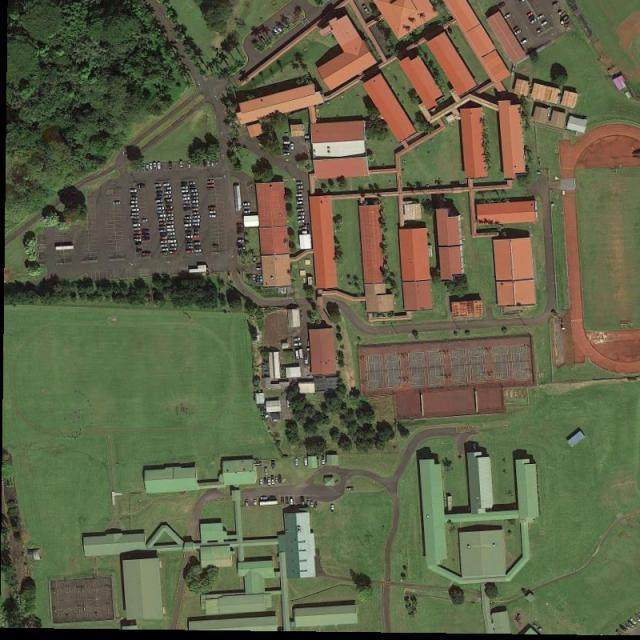vehicle: (560, 15, 570, 26), (362, 5, 370, 15), (528, 14, 537, 22), (276, 25, 284, 34), (619, 625, 628, 633), (530, 18, 538, 26), (630, 618, 638, 626), (537, 14, 546, 21), (520, 39, 529, 46), (498, 2, 507, 9), (273, 27, 280, 36), (628, 621, 635, 630), (512, 26, 520, 33), (304, 354, 309, 365), (295, 350, 300, 361), (301, 497, 306, 507), (299, 349, 304, 359), (526, 12, 534, 18), (541, 22, 549, 28), (536, 28, 544, 34), (514, 30, 522, 36), (504, 14, 512, 20), (271, 461, 276, 470), (164, 190, 173, 195), (272, 475, 276, 486), (299, 227, 310, 231), (625, 624, 631, 631), (552, 2, 560, 7), (473, 443, 477, 453), (635, 614, 640, 622), (133, 224, 141, 229), (156, 199, 164, 204), (238, 231, 246, 236), (194, 249, 202, 254), (278, 474, 282, 484), (304, 457, 308, 467), (322, 456, 326, 466), (294, 342, 302, 347), (292, 338, 302, 342), (168, 240, 178, 244), (215, 158, 220, 166), (206, 160, 211, 168), (558, 11, 564, 17), (314, 501, 318, 510), (131, 209, 140, 213), (132, 216, 141, 220), (157, 206, 166, 210), (209, 215, 218, 219), (237, 247, 246, 251), (243, 210, 252, 214), (243, 202, 252, 206), (207, 187, 216, 191), (207, 180, 216, 184), (193, 242, 202, 246), (254, 276, 263, 280), (295, 186, 304, 190), (295, 182, 304, 186), (150, 163, 154, 172), (158, 162, 162, 171), (146, 164, 150, 173), (183, 207, 192, 211), (157, 203, 164, 208), (298, 208, 305, 213), (187, 162, 192, 169), (300, 231, 311, 234), (290, 498, 294, 506), (246, 499, 250, 507), (138, 184, 146, 188), (130, 193, 138, 197), (130, 205, 138, 209), (142, 230, 150, 234), (142, 234, 150, 238), (134, 238, 142, 242), (133, 219, 141, 223), (113, 202, 121, 206), (283, 138, 291, 142), (237, 239, 245, 243), (244, 207, 252, 211), (209, 210, 217, 214), (305, 135, 313, 139), (209, 206, 217, 210), (290, 143, 294, 151), (191, 208, 199, 212), (265, 468, 269, 476), (295, 458, 299, 466), (331, 505, 335, 513), (192, 204, 200, 208), (158, 210, 166, 214), (186, 250, 194, 254), (162, 183, 170, 187), (166, 198, 174, 202), (166, 202, 174, 206), (166, 206, 174, 210), (166, 210, 174, 214), (166, 214, 174, 218), (166, 222, 174, 226), (161, 237, 169, 241), (158, 222, 166, 226), (158, 218, 166, 222), (186, 246, 194, 250), (186, 235, 194, 239), (180, 182, 188, 186), (181, 186, 189, 190), (181, 190, 189, 194), (183, 194, 191, 198), (183, 201, 191, 205), (184, 220, 192, 224), (253, 279, 263, 282), (310, 501, 314, 508), (286, 498, 290, 505), (254, 499, 258, 506), (260, 479, 264, 486), (264, 478, 268, 485), (156, 191, 163, 195), (155, 184, 162, 188), (283, 145, 290, 149), (194, 226, 201, 230), (283, 149, 290, 153), (298, 216, 305, 220), (297, 198, 304, 202), (296, 194, 303, 198), (166, 186, 173, 190), (161, 244, 168, 248), (159, 230, 166, 234), (192, 200, 199, 204), (211, 160, 215, 167), (268, 477, 271, 486), (129, 190, 138, 193), (130, 198, 139, 201), (131, 213, 140, 216), (142, 253, 151, 256), (166, 229, 175, 232), (166, 218, 175, 221), (168, 237, 177, 240), (169, 244, 178, 247), (158, 215, 167, 218), (190, 194, 199, 197), (190, 189, 199, 192), (154, 162, 157, 171), (184, 227, 193, 230), (346, 488, 354, 491), (307, 499, 310, 507), (156, 195, 162, 199), (130, 202, 138, 205), (136, 242, 142, 246), (134, 235, 142, 238), (134, 231, 142, 234), (133, 228, 141, 231), (253, 258, 257, 264), (212, 245, 220, 248), (194, 246, 202, 249), (193, 219, 201, 222), (283, 154, 291, 157), (298, 221, 306, 224), (298, 213, 306, 216), (298, 205, 306, 208), (297, 202, 305, 205), (193, 212, 199, 216), (164, 195, 172, 198), (166, 226, 174, 229), (167, 233, 175, 236), (186, 243, 194, 246), (170, 248, 178, 251), (170, 252, 178, 255), (190, 182, 196, 186), (170, 162, 173, 170), (184, 224, 192, 227), (186, 232, 194, 235), (261, 497, 268, 500), (142, 219, 149, 222), (143, 238, 150, 241), (136, 250, 143, 253), (238, 227, 245, 230), (238, 225, 245, 228), (193, 223, 200, 226), (193, 216, 200, 219), (298, 190, 305, 193), (162, 249, 169, 252), (161, 241, 168, 244), (186, 239, 193, 242), (192, 197, 199, 200), (190, 186, 197, 189), (180, 162, 183, 169), (183, 198, 190, 201), (282, 498, 285, 504), (156, 188, 162, 191), (284, 142, 290, 145), (194, 235, 200, 238), (194, 231, 200, 234), (255, 268, 264, 270), (183, 217, 192, 219), (207, 185, 215, 187), (184, 205, 192, 207), (276, 477, 278, 484)
